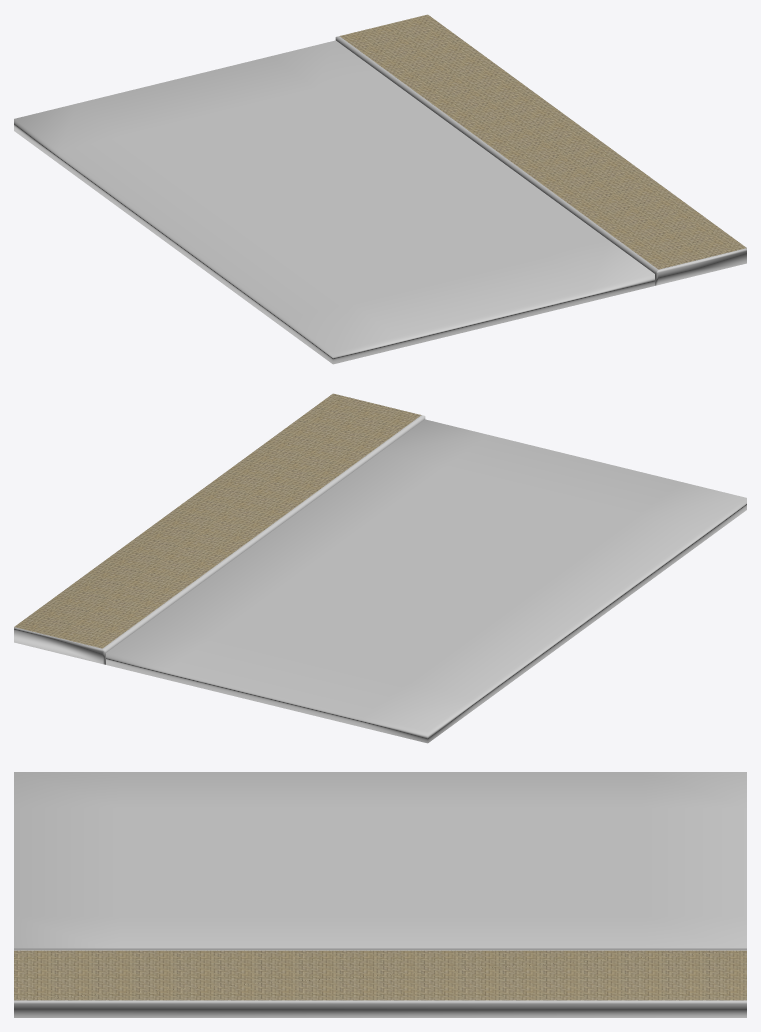
The model's file is gas_station_lot.fbx.
3 renders of one model, top to bottom at view 1: azimuth 30°, elevation 25°; view 2: azimuth 150°, elevation 25°; view 3: azimuth 270°, elevation 25°, orthographic. The views are drawn at different scales.
Visible parts, largest first — view 1: Mesh; view 2: Mesh; view 3: Mesh.
Part boxes in pixels (x1,y1,x2,y2): Mesh: (14,14,746,364); Mesh: (14,393,746,743); Mesh: (14,772,746,1017).
Bounding box in the file's own units: 1797 × 64.1 × 2400.
